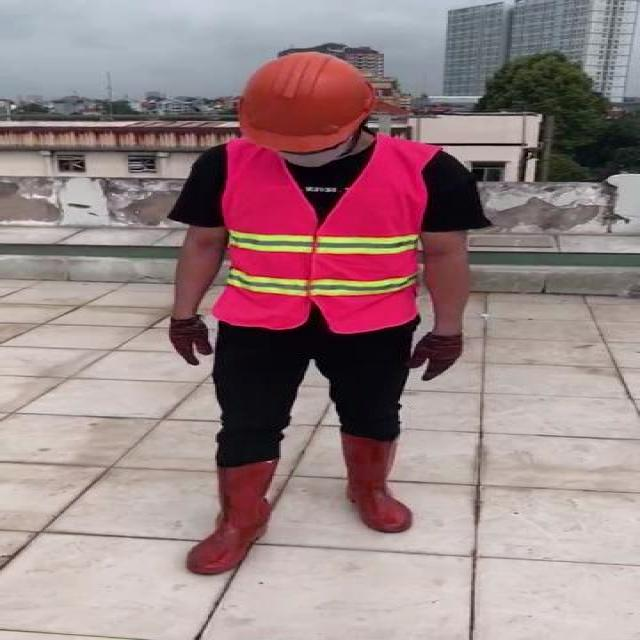boots: (185, 456, 286, 576), (343, 434, 418, 532)
hand_glove: (407, 334, 469, 381), (167, 314, 213, 367)
head_helmet: (229, 45, 384, 152)
person: (140, 49, 490, 582)
vest: (215, 138, 437, 332)
